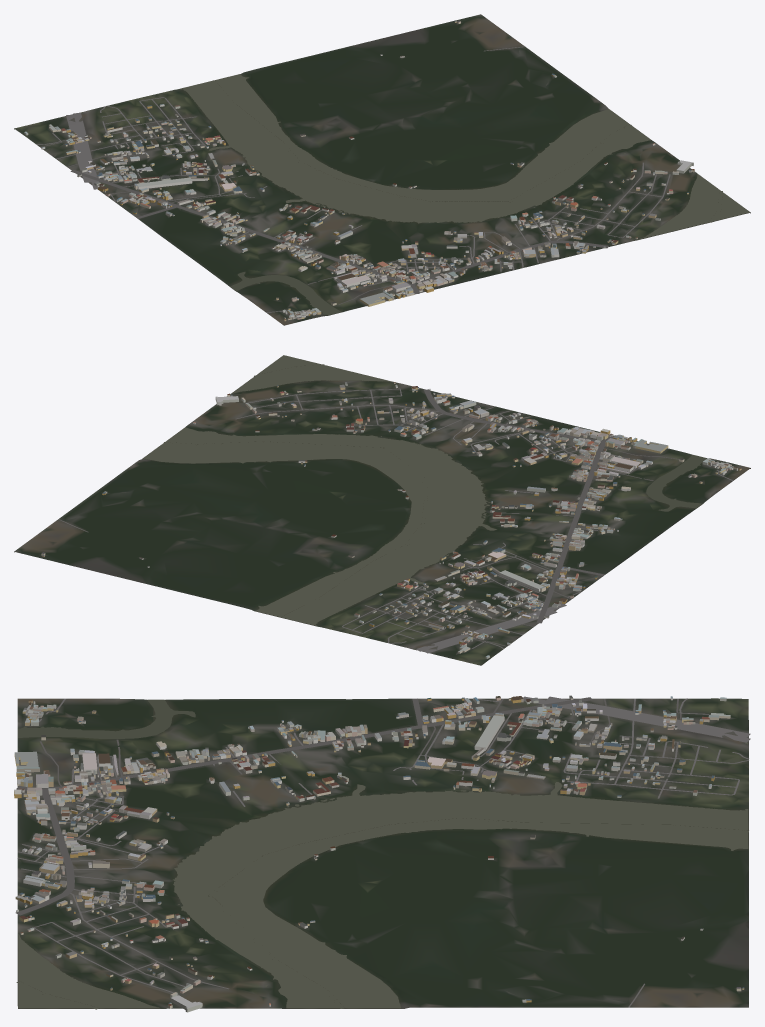
The picture shows the model from 3 angles, top to bottom: view 1: azimuth 30°, elevation 25°; view 2: azimuth 150°, elevation 25°; view 3: azimuth 270°, elevation 25°; orthographic projection. The views are drawn at different scales.
Parts seen in each view (by area): view 1: ground, water, buildings, roads; view 2: ground, water, buildings, roads; view 3: ground, water, buildings, roads.
Boxes of the visible parts, box(x1,y1,x2,y2) form: ground: box(14, 14, 750, 325); water: box(80, 74, 749, 315); buildings: box(24, 20, 694, 321); roads: box(22, 46, 670, 312); ground: box(14, 356, 750, 665); water: box(143, 355, 706, 649); buildings: box(41, 382, 741, 658); roads: box(58, 388, 733, 659); ground: box(17, 698, 748, 1008); water: box(16, 699, 748, 1009); buildings: box(14, 695, 744, 1012); roads: box(15, 696, 750, 1007).
Size of the model in its own units: 1426 by 17.31 by 1411.
